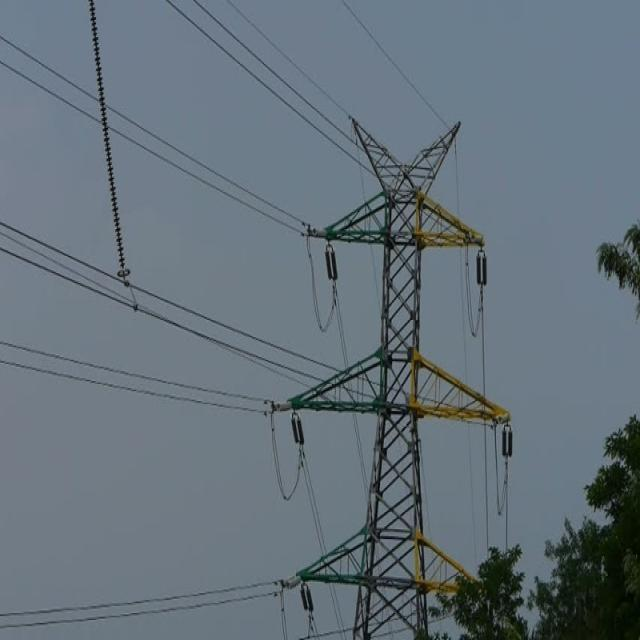non-critical vegetation: (267, 100, 514, 634)
